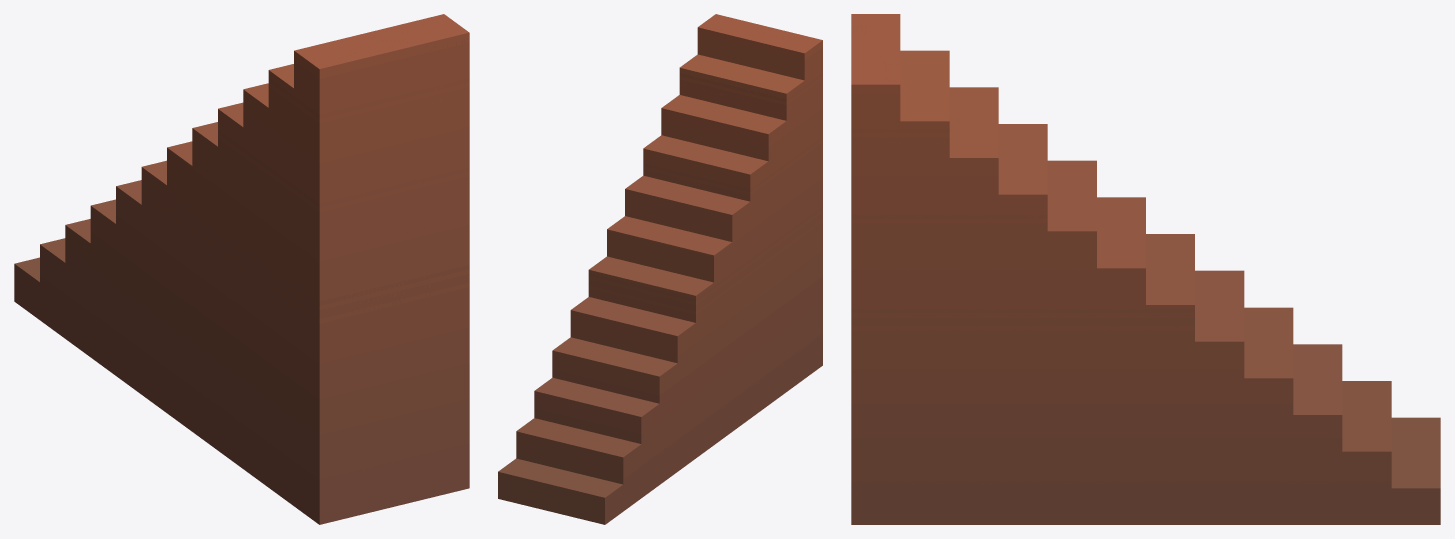
The model's file is stairs-stone-square.glb.
3 renders of one model, left to right at view 1: azimuth 30°, elevation 25°; view 2: azimuth 150°, elevation 25°; view 3: azimuth 270°, elevation 25°, orthographic. The views are drawn at different scales.
Visible parts, largest first — view 1: stairs-stone-square; view 2: stairs-stone-square; view 3: stairs-stone-square.
Part boxes in pixels (x1,y1,x2,y2): stairs-stone-square: [14, 14, 469, 524]; stairs-stone-square: [498, 14, 822, 524]; stairs-stone-square: [851, 14, 1440, 524].
Bounding box in the file's own units: 0.6975 × 2.02 × 2.46.
1 material, 1 textured.
